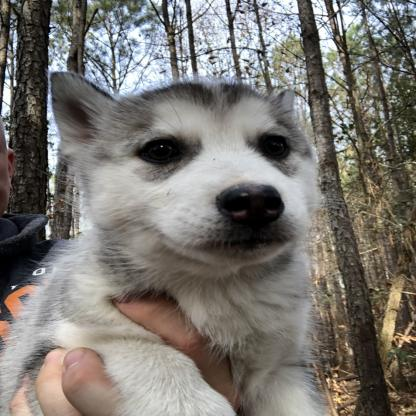husky: (0, 75, 331, 416)
